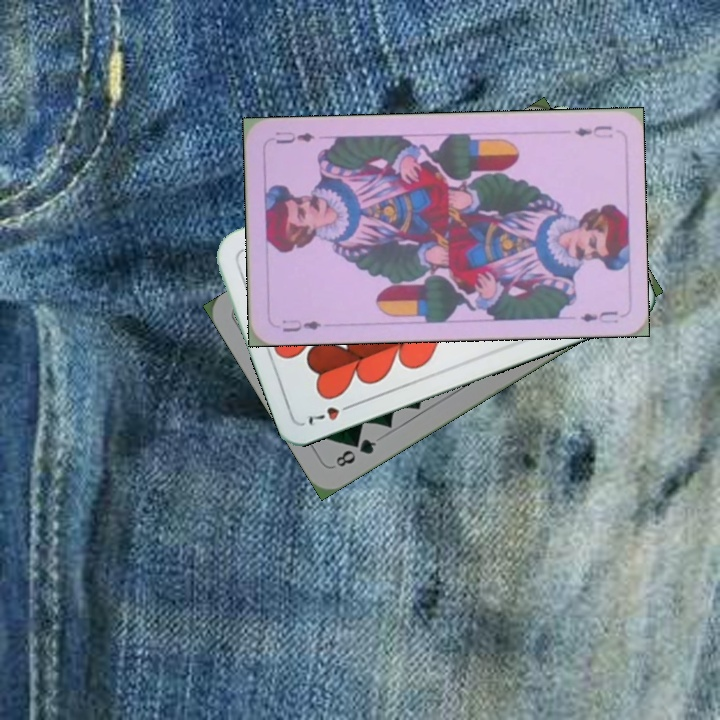EU: (278, 315, 323, 335), (570, 121, 615, 141)
G8: (331, 434, 379, 470)
H7: (304, 399, 358, 428)
